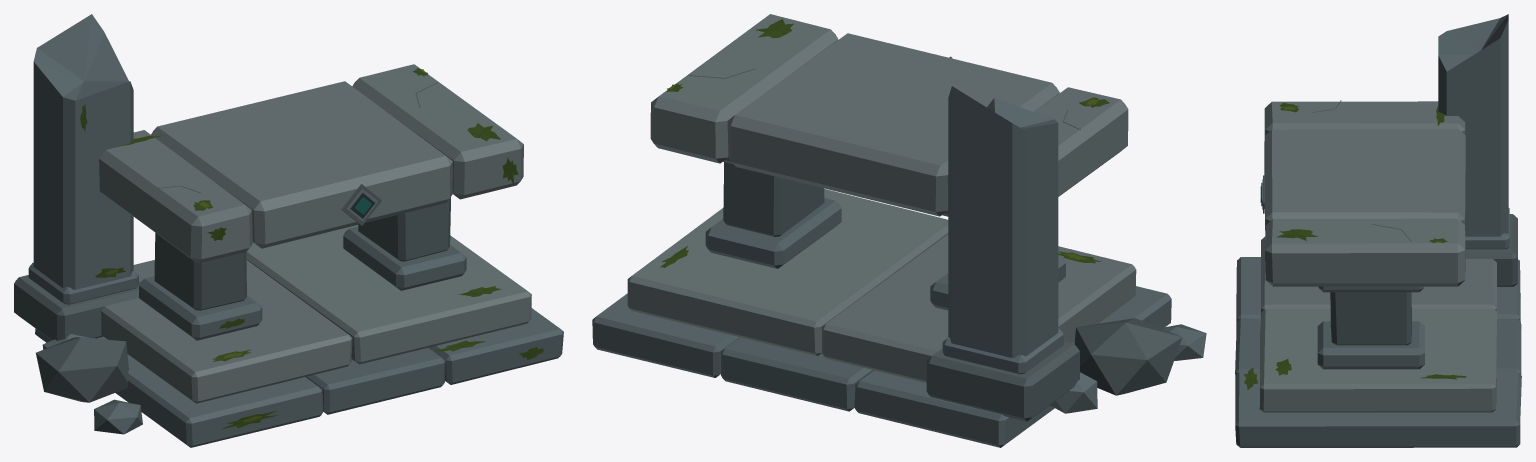
File: AbandonedAltarV2.fbx
3 renders of one model, left to right at view 1: azimuth 30°, elevation 25°; view 2: azimuth 150°, elevation 25°; view 3: azimuth 270°, elevation 25°, orthographic. The views are drawn at different scales.
Parts seen in each view (by area): view 1: AbandonedAltarV2_Mesh; view 2: AbandonedAltarV2_Mesh; view 3: AbandonedAltarV2_Mesh.
Boxes of the visible parts, x1,y1,x2,y2 form: AbandonedAltarV2_Mesh: [14, 14, 563, 447]; AbandonedAltarV2_Mesh: [592, 14, 1206, 447]; AbandonedAltarV2_Mesh: [1235, 14, 1521, 447].
Size of the model in its own units: 2.27 by 1.53 by 1.39.
